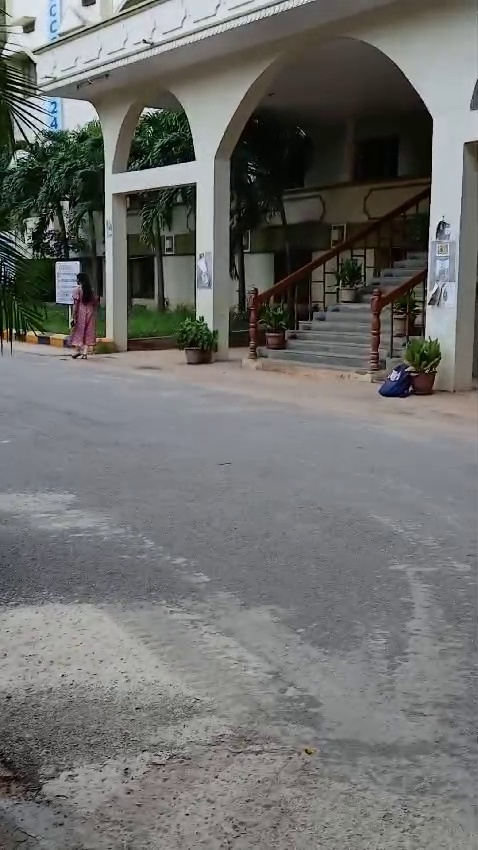bag: (369, 361, 415, 401)
